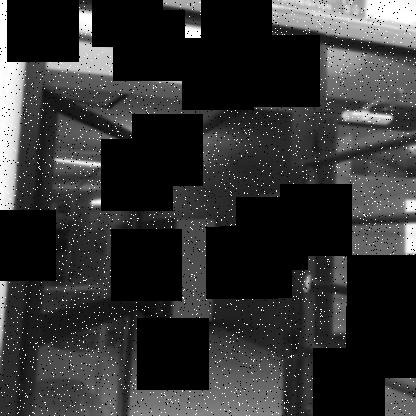Porte: (2, 69, 299, 415)
